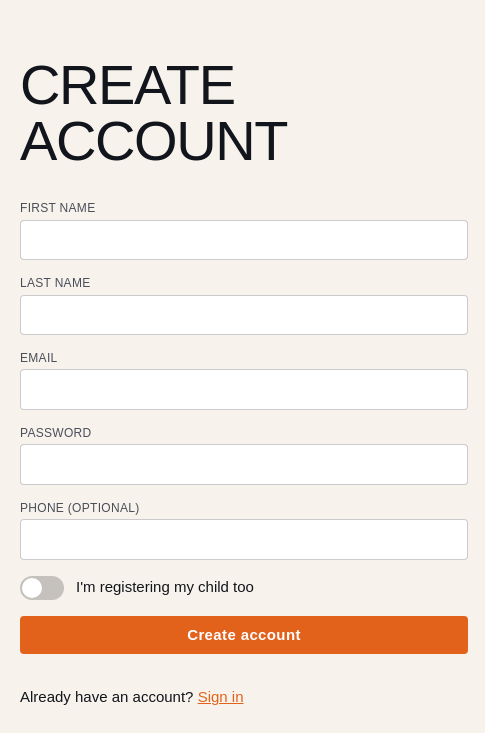
Test: RegisterPage › should reveal the child sub-form when "I'm registering my child too" is toggled
Click the switch named "registering my child too".
click(42, 588)  # box [20,576,64,600]
(page scrolled)
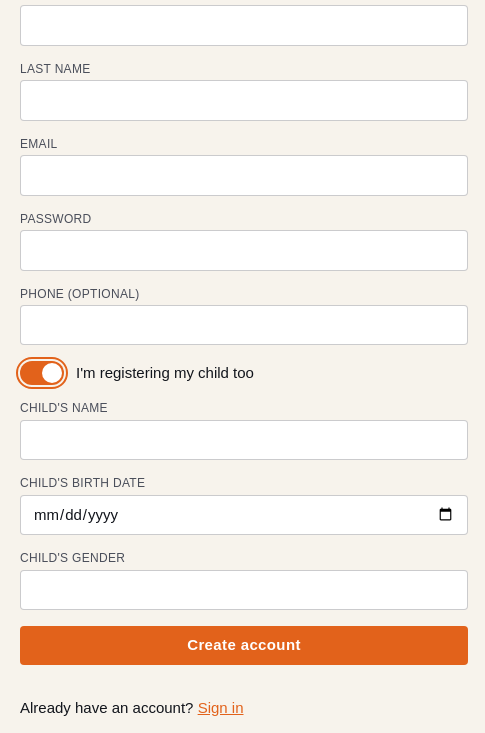
Expected: the field labelled "Child's name" is shown, [20,420,468,460]
Expected: the date field labelled "Child's birth date" is shown, [20,495,468,535]
Expected: the field labelled "Child's gender" is shown, [20,570,468,610]
